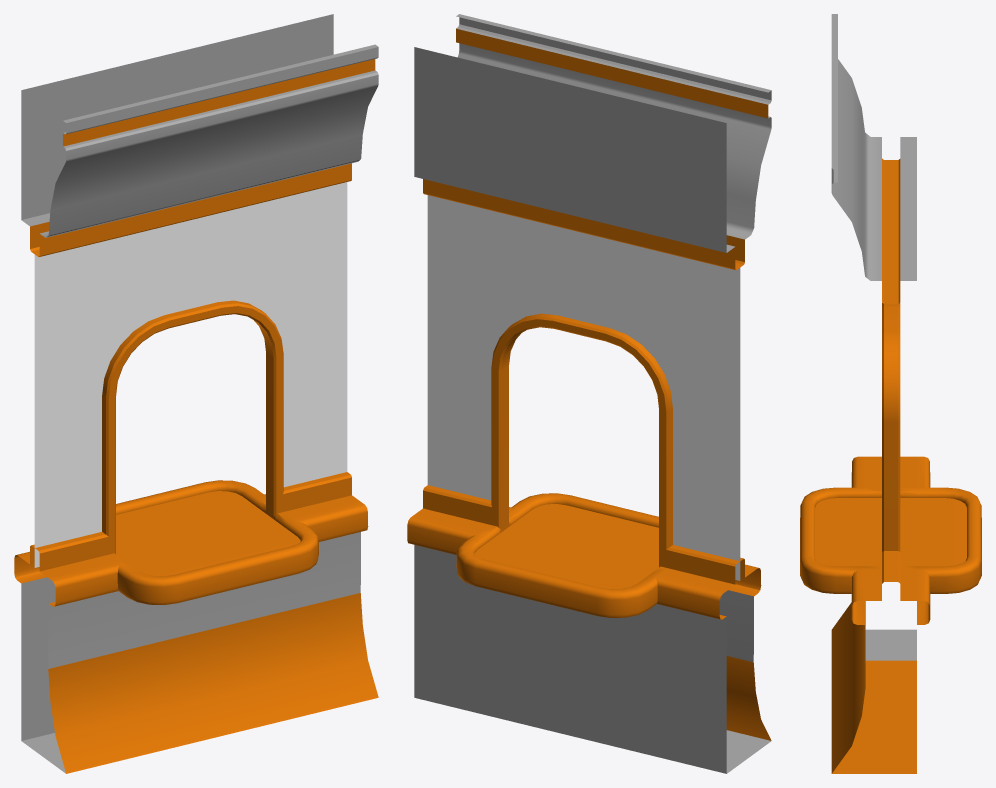
The model's file is SM_window_delivery.fbx.
3 renders of one model, left to right at view 1: azimuth 30°, elevation 25°; view 2: azimuth 150°, elevation 25°; view 3: azimuth 270°, elevation 25°, orthographic. The views are drawn at different scales.
Visible parts, largest first — view 1: polySurface23; view 2: polySurface23; view 3: polySurface23.
Part boxes in pixels (bbox=[...]): polySurface23: bbox=[14, 14, 378, 773]; polySurface23: bbox=[407, 14, 771, 773]; polySurface23: bbox=[800, 14, 981, 773].
Size of the model in its own units: 2 by 3.98 by 1.06.
